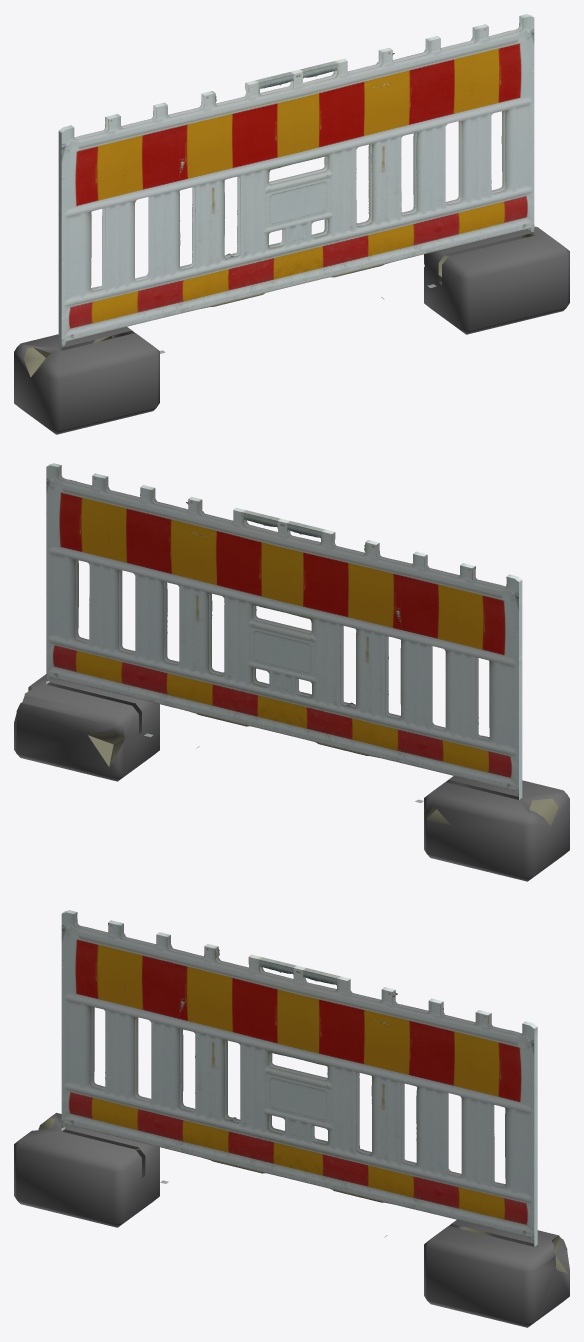
File: yk_tie-esto-barrier2.fbx
3 renders of one model, top to bottom at view 1: azimuth 30°, elevation 25°; view 2: azimuth 150°, elevation 25°; view 3: azimuth 330°, elevation 25°, orthographic.
Parts seen in each view (by area): view 1: Cube.001; view 2: Cube.001; view 3: Cube.001.
Boxes of the visible parts, x1,y1,x2,y2 form: Cube.001: (14, 14, 569, 434); Cube.001: (14, 463, 569, 881); Cube.001: (14, 910, 569, 1327).
Bounding box in the file's own units: 440 × 231 × 63.54.
